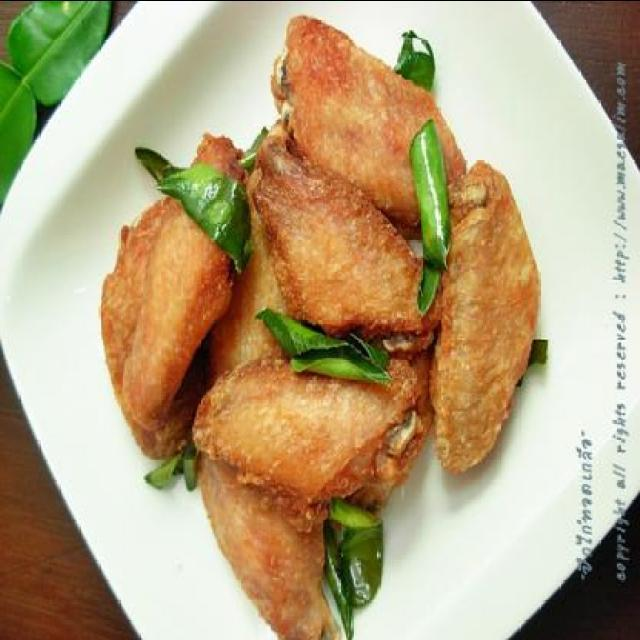Deep fried chicken wing: (93, 3, 545, 634)
